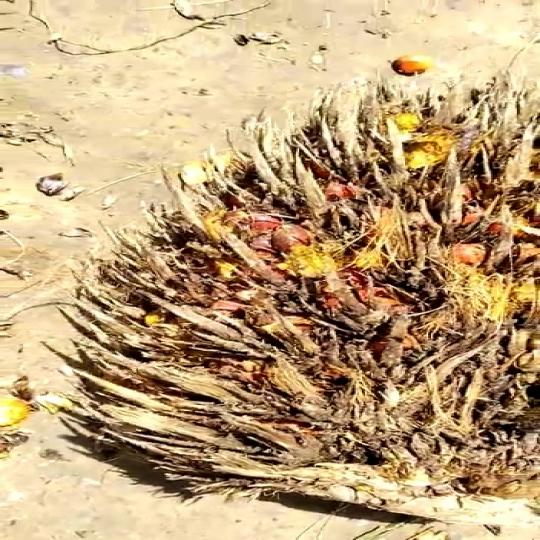terlalu masak: (68, 73, 540, 540)
